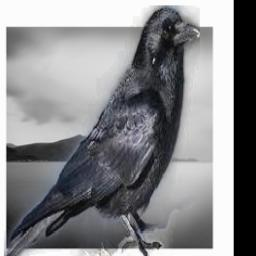Crow: (4, 5, 200, 256)
